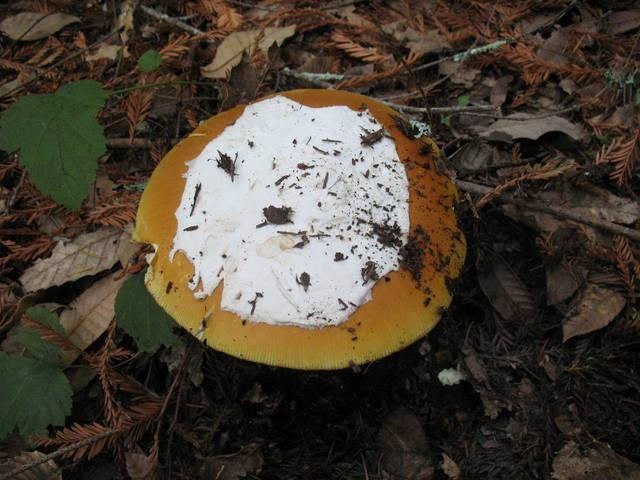edible_mushroom: (130, 87, 468, 371)
